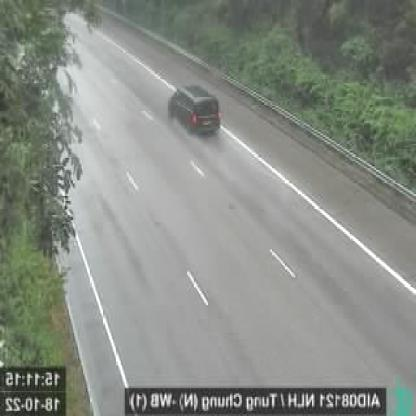Car: (167, 82, 220, 136)
